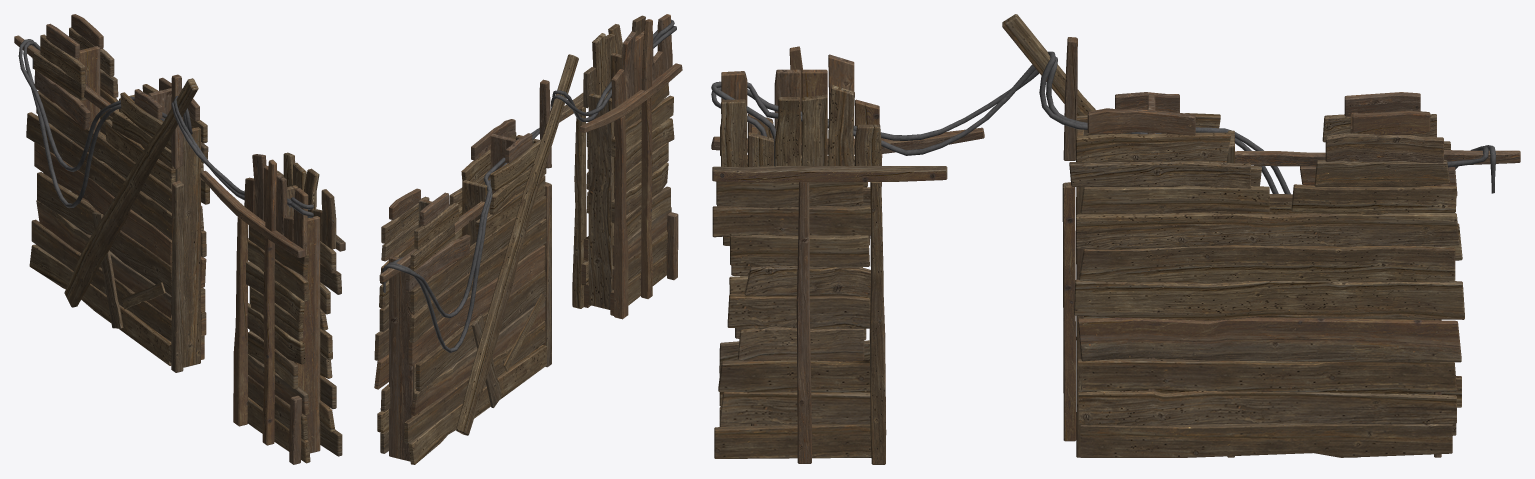
File: MazeWall05.fbx
3 renders of one model, left to right at view 1: azimuth 30°, elevation 25°; view 2: azimuth 150°, elevation 25°; view 3: azimuth 270°, elevation 25°, orthographic. The views are drawn at different scales.
Visible parts, largest first — view 1: SM_FAR_MazeWall_05.mo; view 2: SM_FAR_MazeWall_05.mo; view 3: SM_FAR_MazeWall_05.mo.
Boxes of the visible parts, bbox=[...] form: SM_FAR_MazeWall_05.mo: bbox=[14, 14, 345, 464]; SM_FAR_MazeWall_05.mo: bbox=[374, 14, 682, 464]; SM_FAR_MazeWall_05.mo: bbox=[711, 14, 1520, 464].
Size of the model in its own units: 69.8 by 383 by 666.
